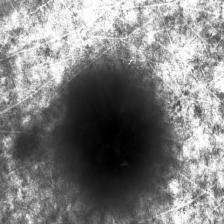Benign Marking or Mole: (63, 83, 160, 184)
